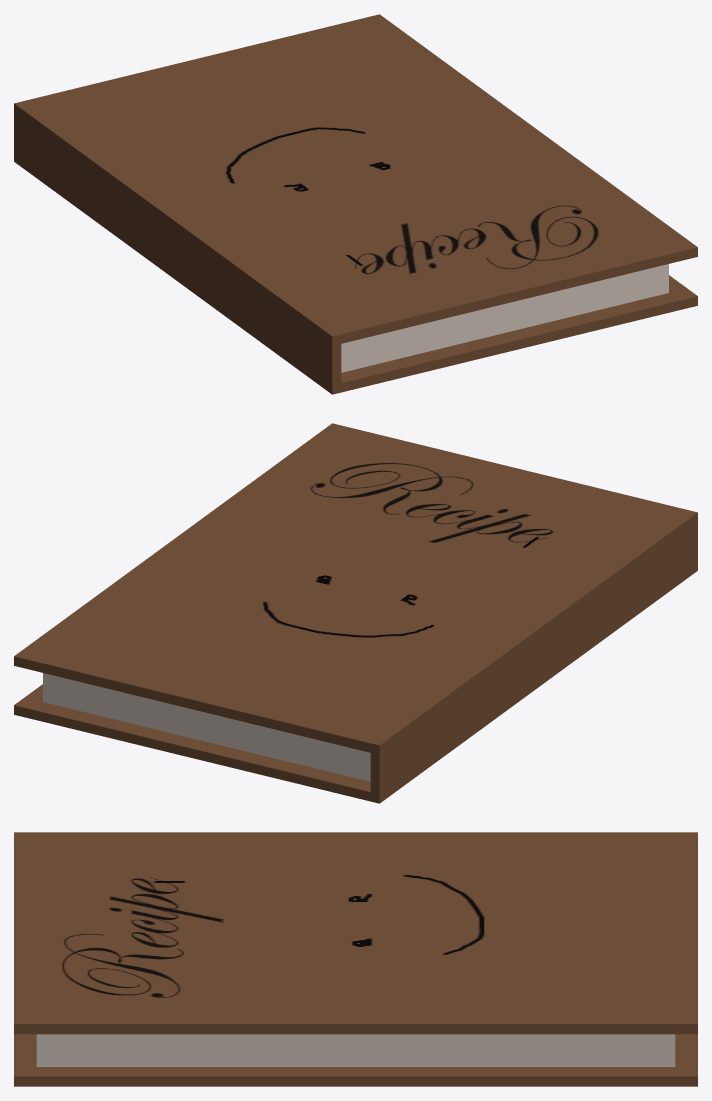
The model's file is book.fbx.
3 renders of one model, top to bottom at view 1: azimuth 30°, elevation 25°; view 2: azimuth 150°, elevation 25°; view 3: azimuth 270°, elevation 25°, orthographic. The views are drawn at different scales.
Parts seen in each view (by area): view 1: Cube.003, Cube; view 2: Cube.003, Cube; view 3: Cube.003, Cube.
Part boxes in pixels (x1,y1,x2,y2): Cube.003: (14, 14, 697, 394); Cube: (341, 264, 668, 372); Cube.003: (14, 423, 697, 803); Cube: (43, 673, 370, 781); Cube.003: (14, 832, 697, 1086); Cube: (36, 1034, 675, 1066).
Bounding box in the file's own units: 122 × 18.59 × 183.
Materials: 2 (1 with a texture image).
